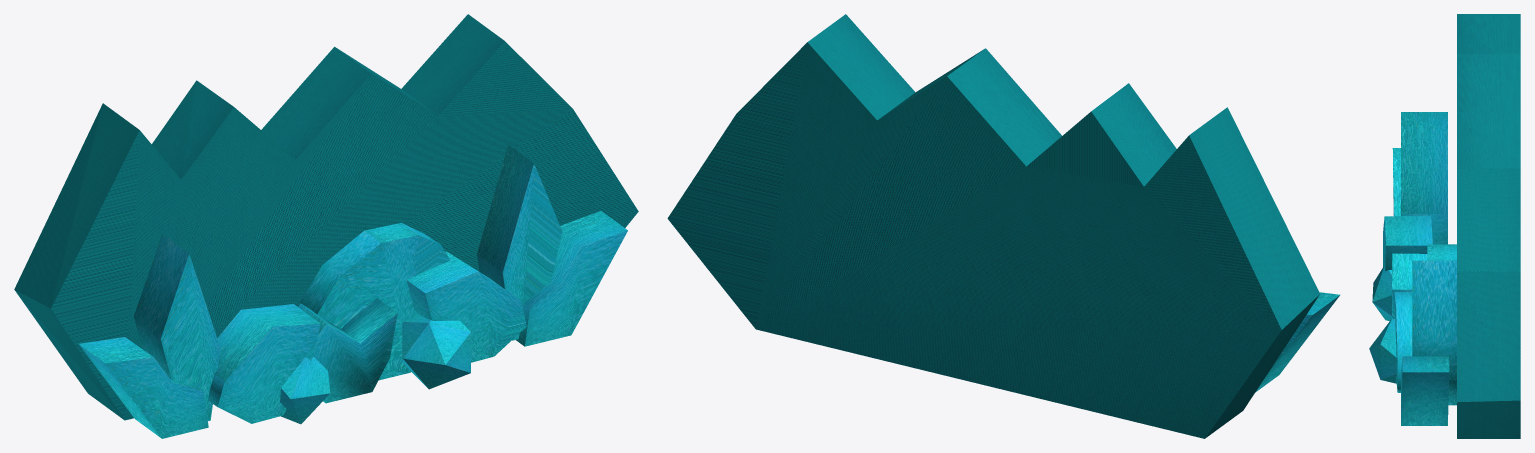
Rendered from spacialRoca.fbx.
3 renders of one model, left to right at view 1: azimuth 30°, elevation 25°; view 2: azimuth 150°, elevation 25°; view 3: azimuth 270°, elevation 25°, orthographic. The views are drawn at different scales.
Parts seen in each view (by area): view 1: Cube_8, Cube_7, Cube_2, Cube_1, Cube_3, Cube_4, Cube_6, Cube, Cube_5, Platonic_1, Platonic; view 2: Cube_8, Cube; view 3: Cube_8, Cube_1, Cube_3, Cube_4, Cube_2, Cube_6, Platonic_1, Cube_5, Platonic, Cube, Cube_7.
Boxes of the visible parts, x1=… form: Cube_8: x1=14, y1=14, x2=638, y2=420; Cube_7: x1=300, y1=223, x2=450, y2=380; Cube_2: x1=208, y1=304, x2=320, y2=423; Cube_1: x1=134, y1=234, x2=220, y2=421; Cube_3: x1=477, y1=144, x2=562, y2=340; Cube_4: x1=516, y1=211, x2=627, y2=346; Cube_6: x1=406, y1=251, x2=526, y2=362; Cube: x1=78, y1=337, x2=208, y2=438; Cube_5: x1=298, y1=298, x2=397, y2=403; Platonic_1: x1=402, y1=315, x2=470, y2=389; Platonic: x1=280, y1=357, x2=330, y2=424; Cube_8: x1=667, y1=14, x2=1319, y2=438; Cube: x1=1255, y1=292, x2=1340, y2=392; Cube_8: x1=1457, y1=14, x2=1520, y2=438; Cube_1: x1=1401, y1=112, x2=1447, y2=244; Cube_3: x1=1412, y1=260, x2=1456, y2=405; Cube_4: x1=1401, y1=356, x2=1449, y2=425; Cube_2: x1=1383, y1=215, x2=1432, y2=271; Cube_6: x1=1394, y1=292, x2=1412, y2=392; Platonic_1: x1=1369, y1=318, x2=1396, y2=383; Cube_5: x1=1392, y1=253, x2=1427, y2=318; Platonic: x1=1372, y1=265, x2=1391, y2=321; Cube: x1=1392, y1=148, x2=1400, y2=216; Cube_7: x1=1427, y1=244, x2=1456, y2=260.
Bounding box in the file's own units: 2519 × 1203 × 648.
2 materials, 2 textured.
